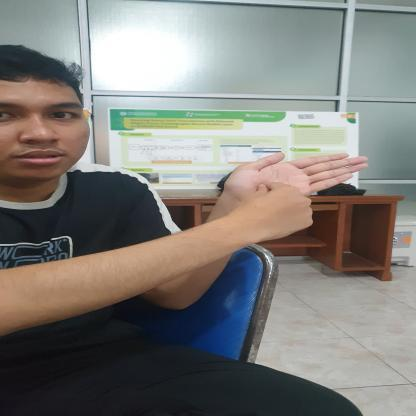Nama: (163, 140, 403, 254)
